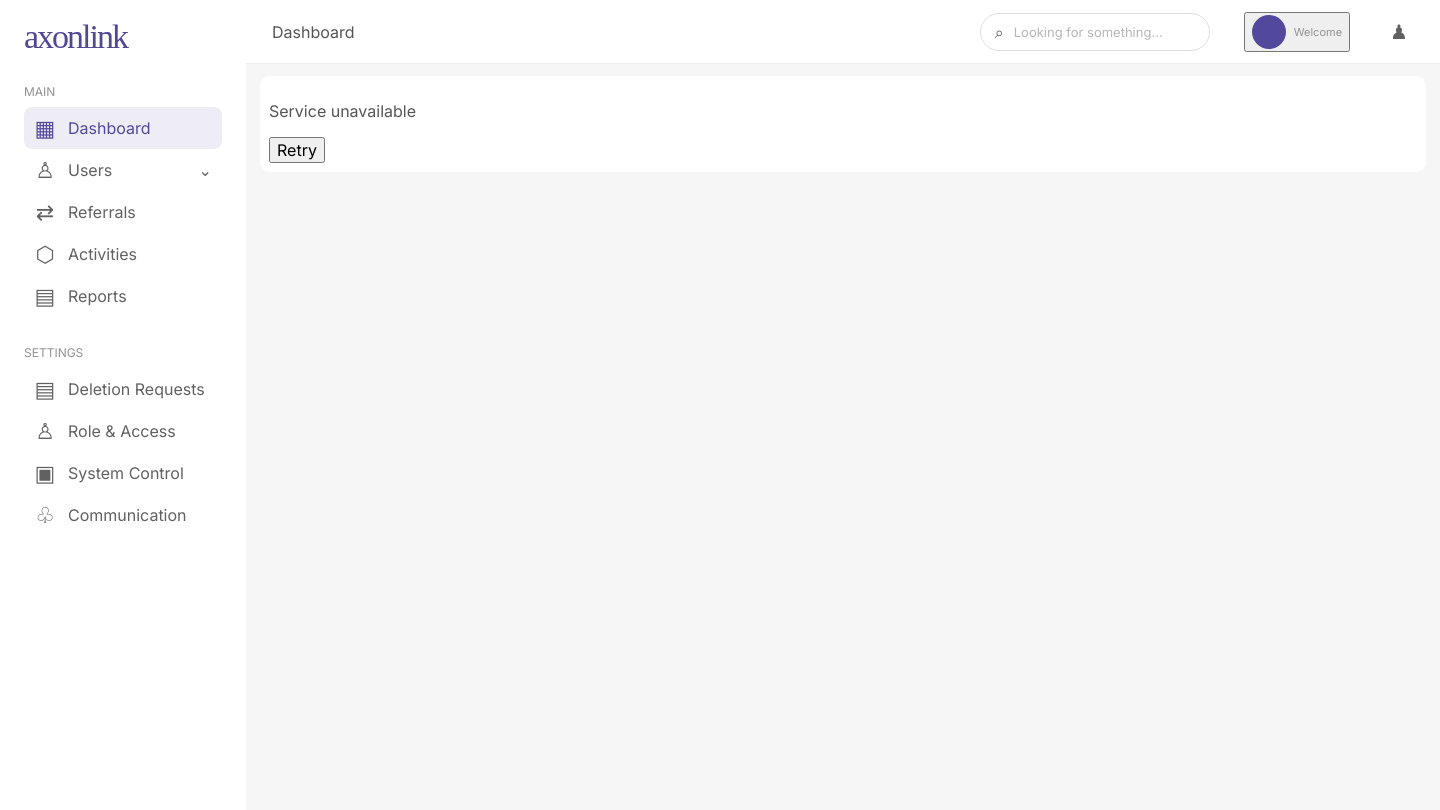
Test: displays API failure distinctly and supports recovery
The image size is (1440, 810).
Check: the message shows "Service unavailable", box top-left (269, 101), bottom-right (416, 121)
Check: the text "No recent activities" is not shown
Click the button "Retry".
click(297, 150)  # box top-left (269, 137), bottom-right (325, 163)
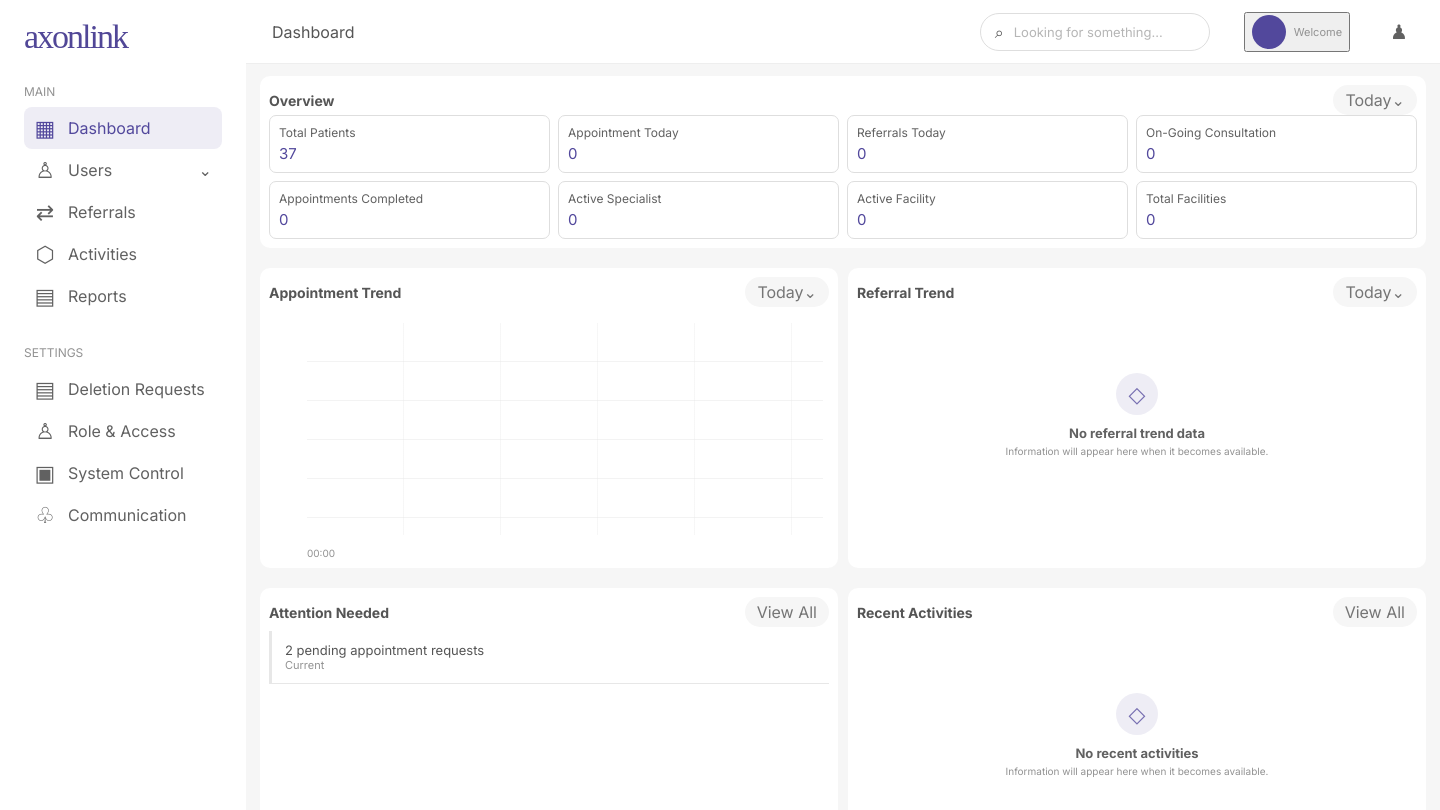
Check: the text "37" is shown, box top-left (279, 144), bottom-right (297, 163)
Check: the text "2 pending appointment requests" is shown, box top-left (285, 642), bottom-right (484, 658)
